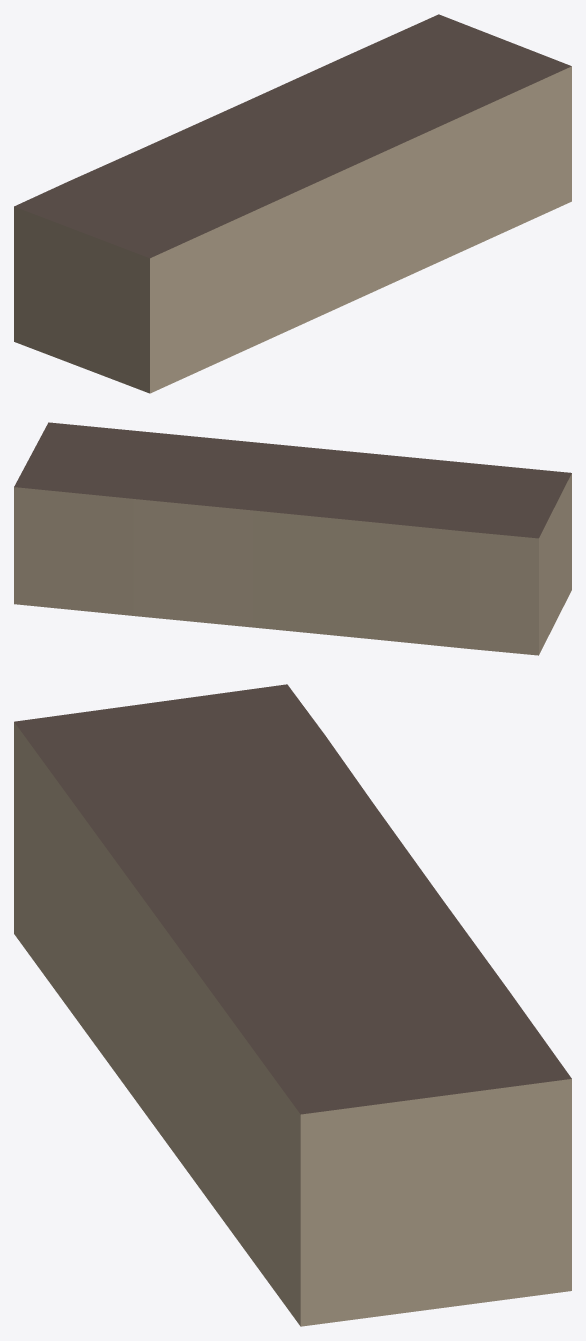
3 renders of one model, top to bottom at view 1: azimuth 30°, elevation 25°; view 2: azimuth 150°, elevation 25°; view 3: azimuth 270°, elevation 25°, orthographic. The views are drawn at different scales.
Visible parts, largest first — view 1: HP-w1198645051; view 2: HP-w1198645051; view 3: HP-w1198645051.
Part boxes in pixels (x1,y1,x2,y2): HP-w1198645051: [14, 14, 571, 393]; HP-w1198645051: [14, 422, 571, 655]; HP-w1198645051: [14, 684, 571, 1326].
Bounding box in the file's own units: 39.14 × 9 × 21.45.
